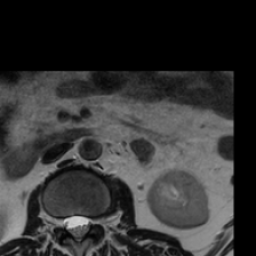CCS_normal: (73, 209, 81, 250)
LFS_stenosis: (90, 210, 99, 235)
LLS_normal: (81, 209, 90, 240)
RFS_normal: (54, 210, 65, 236)
RLS_normal: (65, 210, 73, 242)
